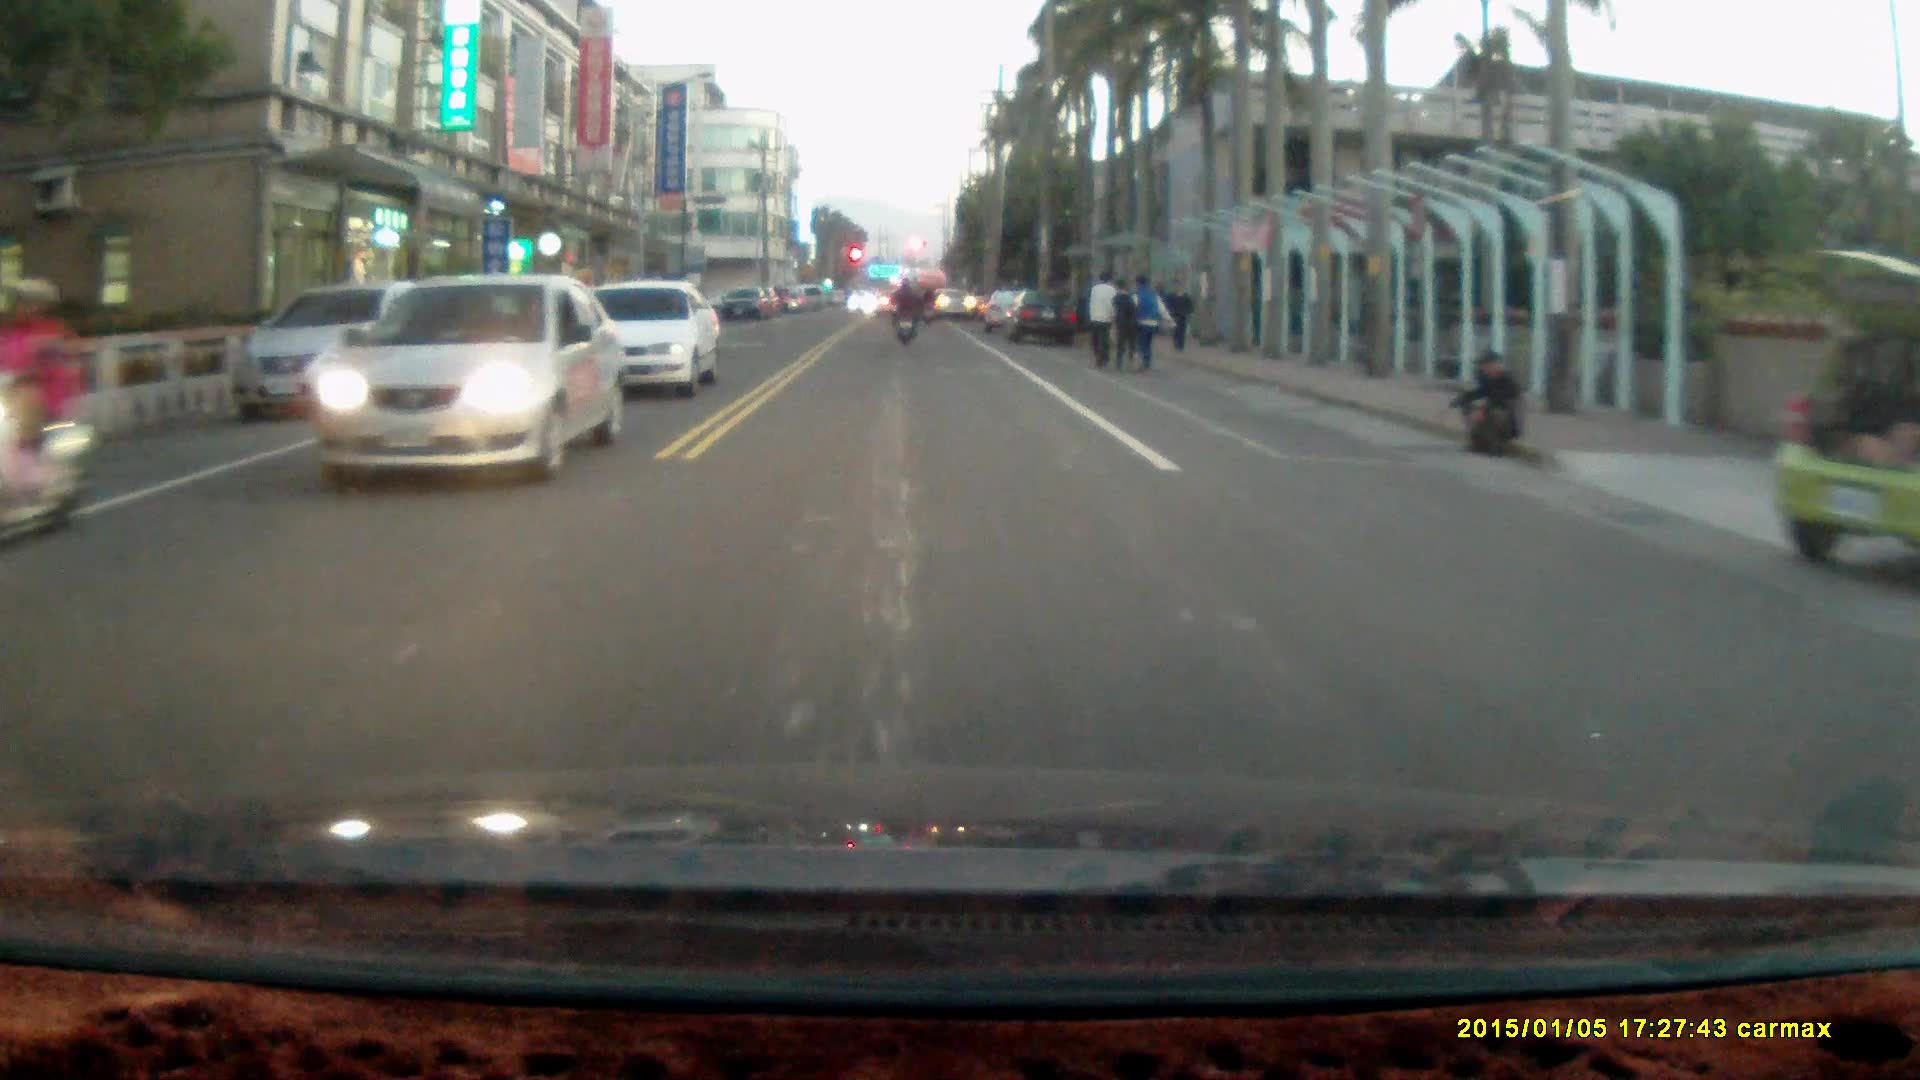pedestrian: (1448, 353, 1526, 459), (1119, 275, 1170, 378), (1086, 271, 1119, 372), (1106, 278, 1136, 369), (1160, 275, 1194, 354)
rider: (0, 276, 93, 554), (886, 275, 919, 350)
vehicle: (310, 275, 625, 489), (1772, 247, 1920, 568), (586, 280, 724, 404), (1001, 291, 1082, 346)
